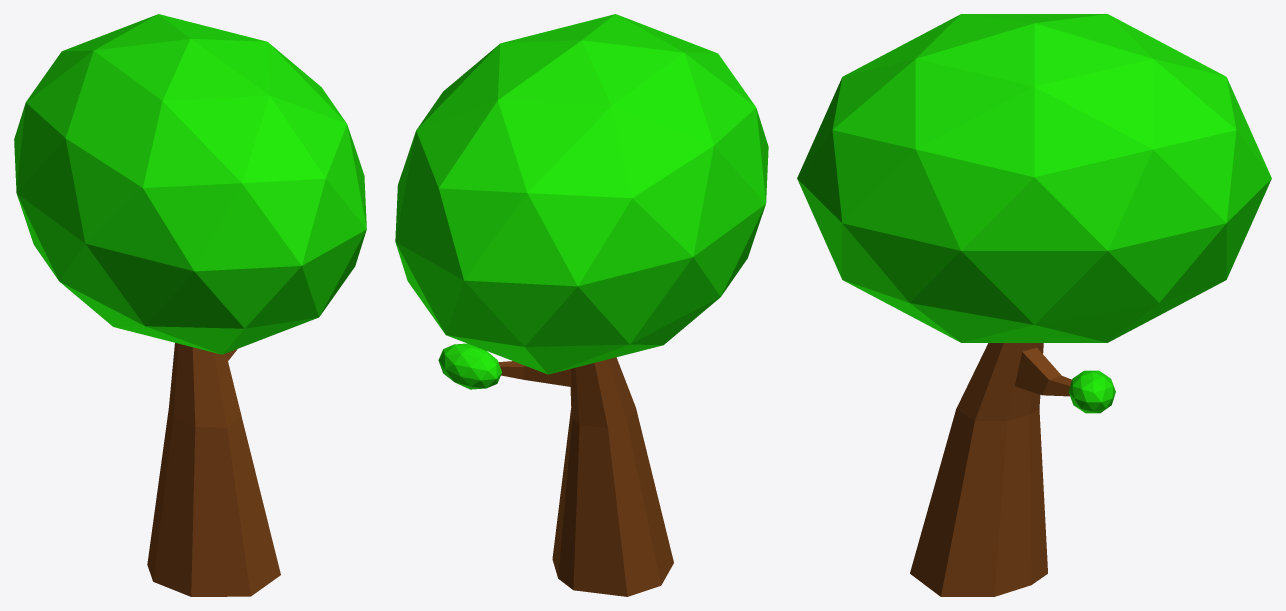
File: Tree1.fbx
3 views of the same model, side by side, from view 1: azimuth 30°, elevation 25°; view 2: azimuth 150°, elevation 25°; view 3: azimuth 270°, elevation 25° (orthographic). The views are drawn at different scales.
Parts seen in each view (by area): view 1: Cube; view 2: Cube; view 3: Cube.
Part boxes in pixels (<box>): Cube: <box>14,14,366,596</box>; Cube: <box>395,14,768,596</box>; Cube: <box>797,14,1271,596</box>.
Size of the model in its own units: 570 by 1006 by 789.
